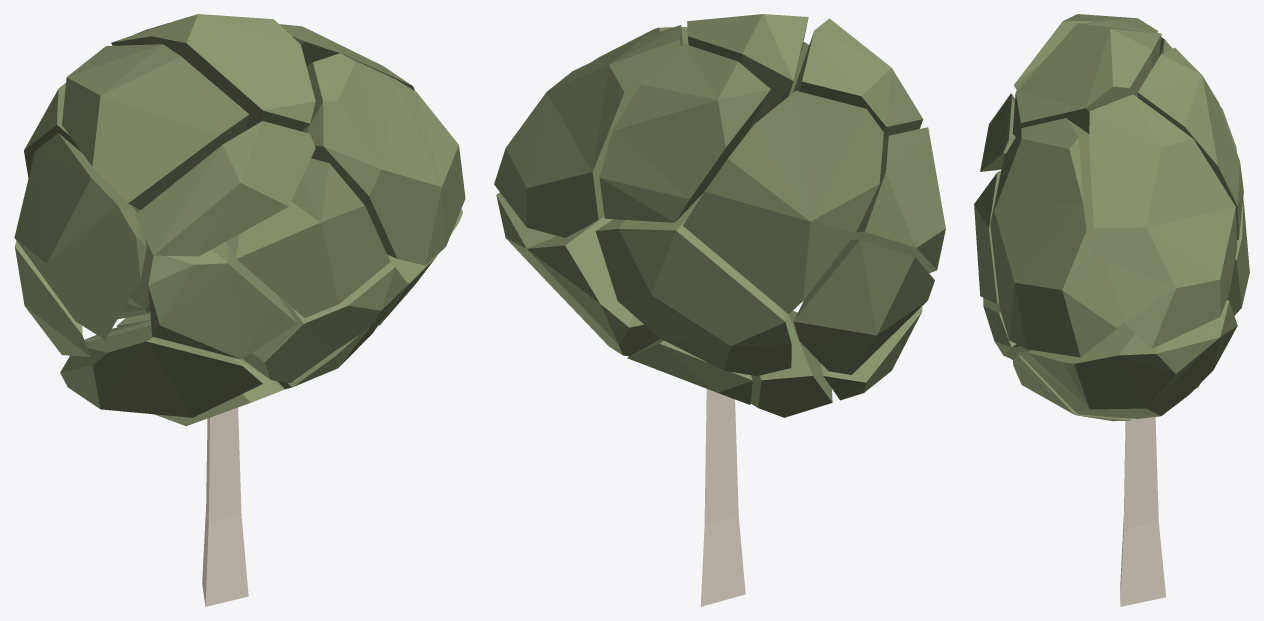
The model's file is tree_3.fbx.
3 renders of one model, left to right at view 1: azimuth 30°, elevation 25°; view 2: azimuth 150°, elevation 25°; view 3: azimuth 270°, elevation 25°, orthographic. The views are drawn at different scales.
Parts seen in each view (by area): view 1: tree_3; view 2: tree_3; view 3: tree_3.
Part boxes in pixels (x1,y1,x2,y2): tree_3: (14, 14, 465, 606); tree_3: (494, 14, 945, 606); tree_3: (974, 14, 1249, 606).
Bounding box in the file's own units: 289 × 387 × 175.
